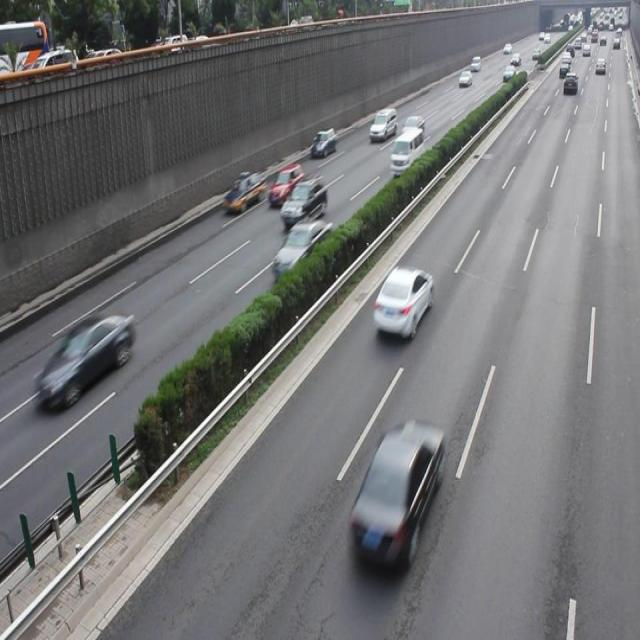car: (348, 414, 443, 561), (38, 311, 134, 405), (371, 264, 433, 338), (271, 216, 333, 278), (281, 178, 326, 224), (267, 160, 302, 206), (223, 170, 265, 208), (310, 128, 338, 156)
truck: (389, 128, 424, 178)
